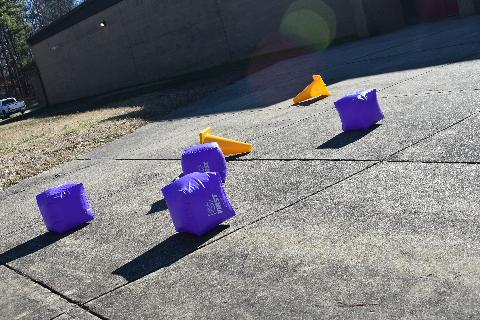cone: (199, 126, 253, 154), (293, 74, 331, 104)
cube: (160, 170, 236, 238), (35, 182, 95, 234), (333, 88, 385, 132), (182, 141, 228, 183)
